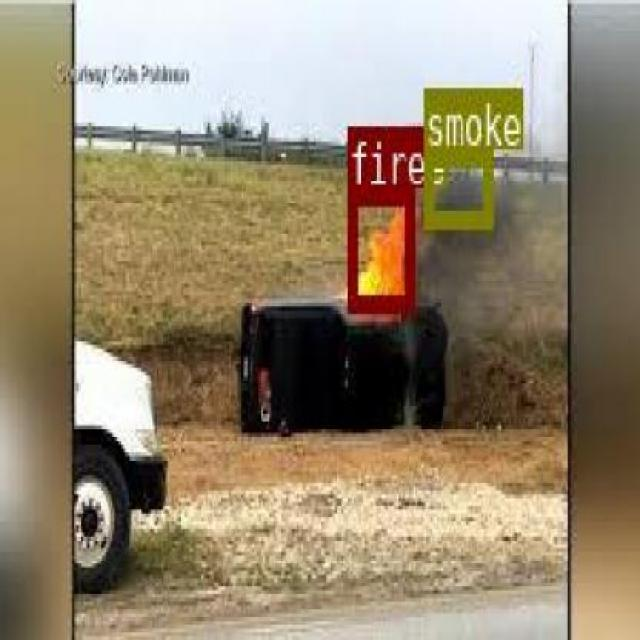Fire: (346, 185, 412, 308)
Smoke: (346, 184, 412, 310), (424, 146, 492, 225)
